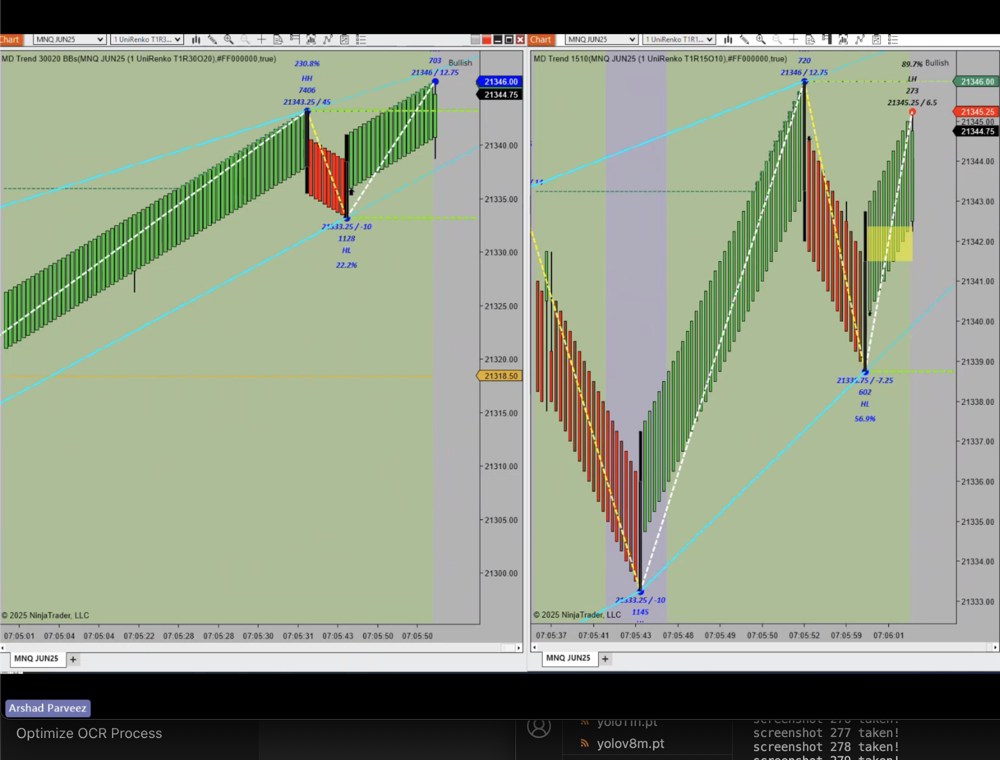HH: (297, 70, 321, 89)
HL: (855, 395, 880, 415), (336, 240, 360, 257)
LH: (902, 71, 927, 89)
